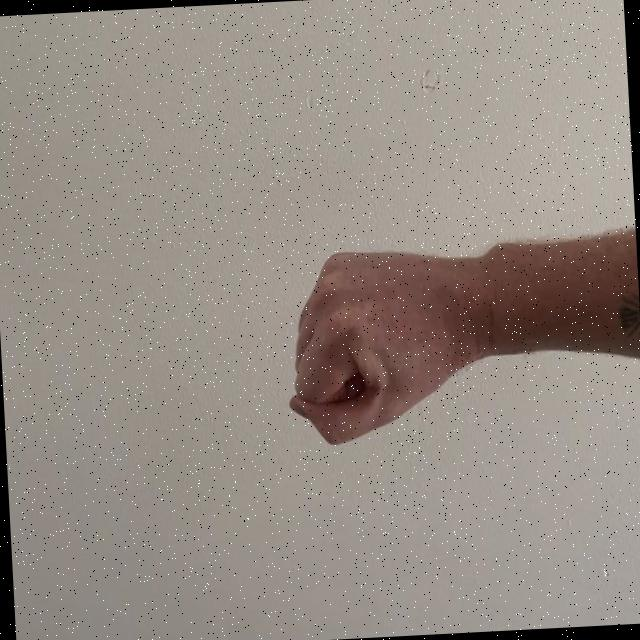rock: (268, 235, 554, 456)
